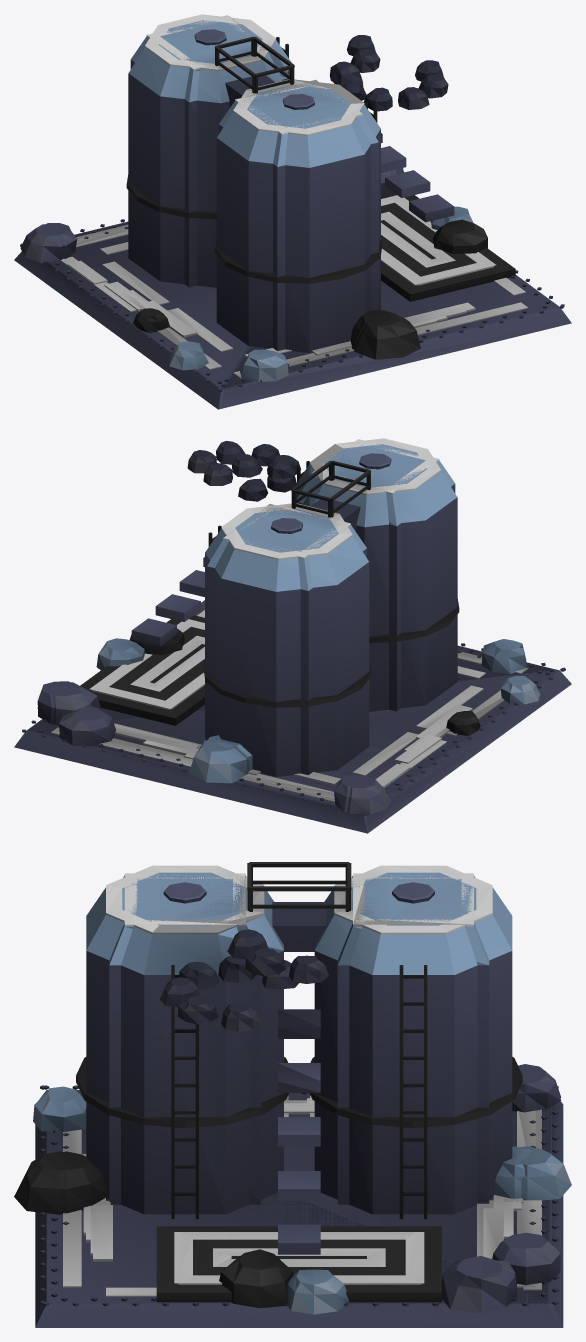
The model's file is veyran_ore_silo_damaged.glb.
The picture shows the model from 3 angles, top to bottom: view 1: azimuth 30°, elevation 25°; view 2: azimuth 150°, elevation 25°; view 3: azimuth 270°, elevation 25°; orthographic projection. The views are drawn at different scales.
Parts seen in each view (by area): view 1: body (×3); view 2: body (×3); view 3: body (×3).
Boxes of the visible parts, x1,y1,x2,y2 form: body (×3): (14,14,571,409); body (×3): (14,438,571,833); body (×3): (14,862,571,1327).
Bounding box in the file's own units: 7.77 × 4.9 × 7.82.
